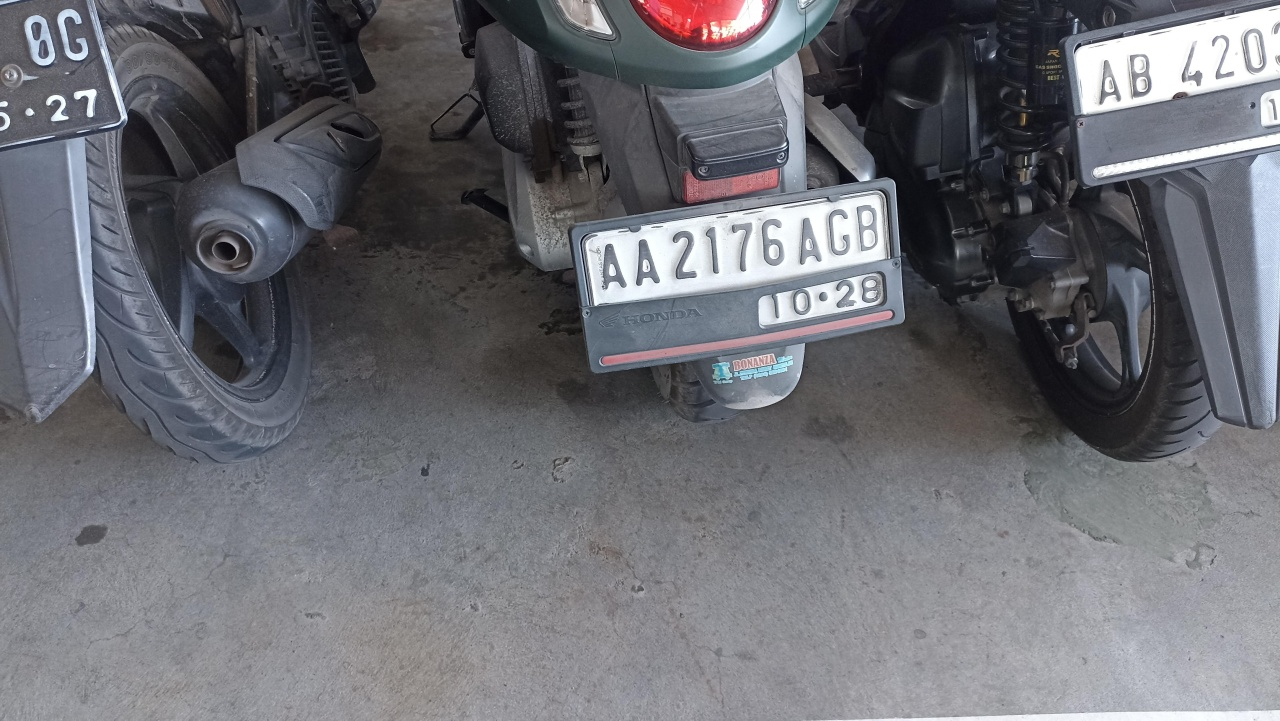plate: (578, 182, 904, 372)
